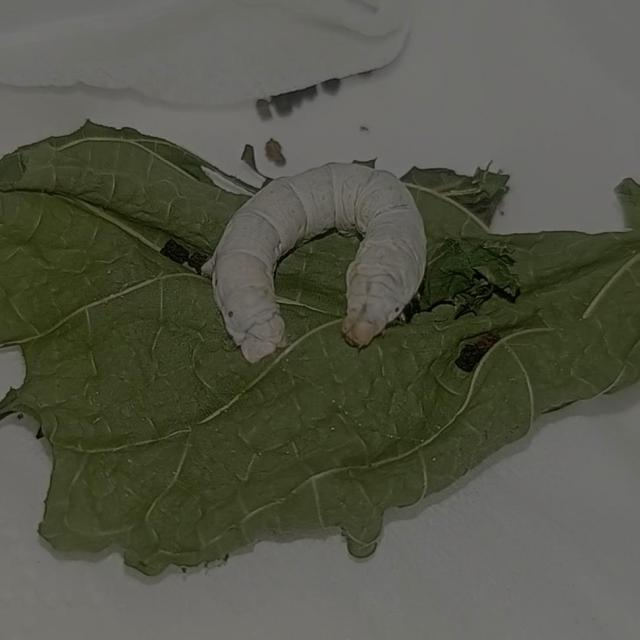Healthy: (165, 144, 472, 385)
